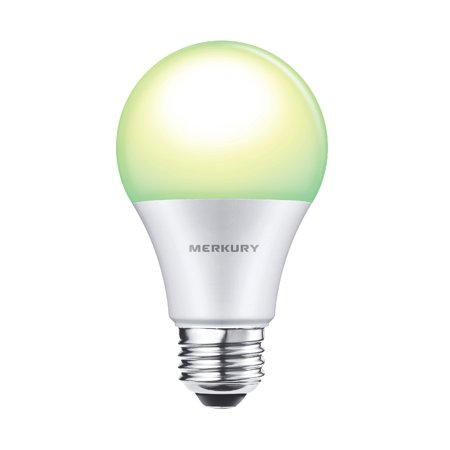Nonrec_Glass: (106, 24, 337, 436)
